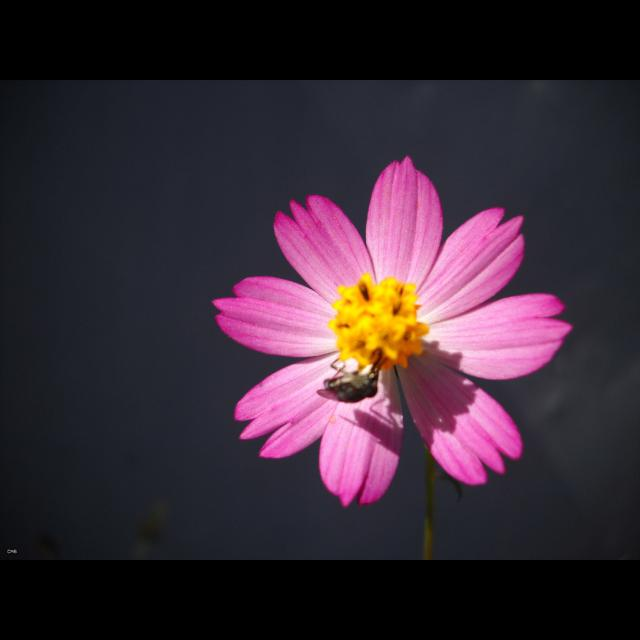Flower: (206, 158, 568, 536)
